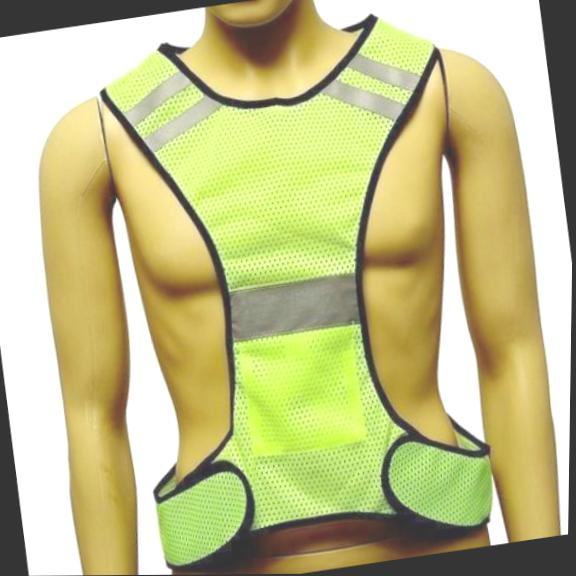safety_vest: (81, 0, 508, 575)
